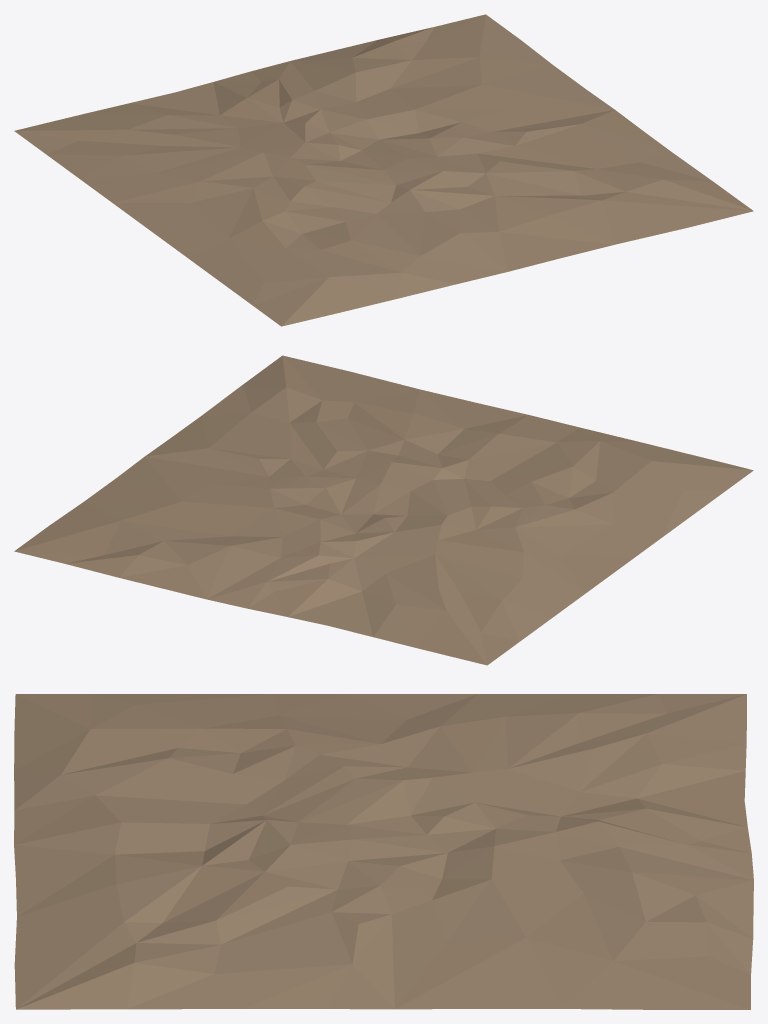
File: SM_Env_Ground_Square_02.glb
3 renders of one model, top to bottom at view 1: azimuth 30°, elevation 25°; view 2: azimuth 150°, elevation 25°; view 3: azimuth 270°, elevation 25°, orthographic. The views are drawn at different scales.
Parts seen in each view (by area): view 1: SM_Env_Ground_Square_02; view 2: SM_Env_Ground_Square_02; view 3: SM_Env_Ground_Square_02.
Boxes of the visible parts, <box> form: SM_Env_Ground_Square_02: <box>14,14,753,326</box>; SM_Env_Ground_Square_02: <box>14,355,753,665</box>; SM_Env_Ground_Square_02: <box>14,694,753,1009</box>.
Size of the model in its own units: 20.87 by 0.7527 by 20.66.
1 material, 1 textured.
